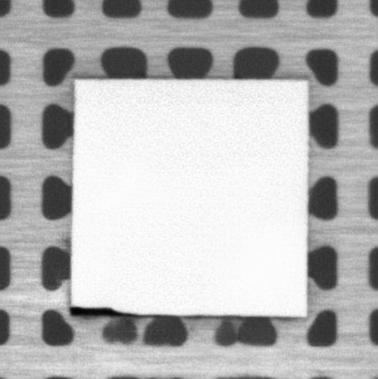DIE_BROKEN: (67, 303, 127, 317)
